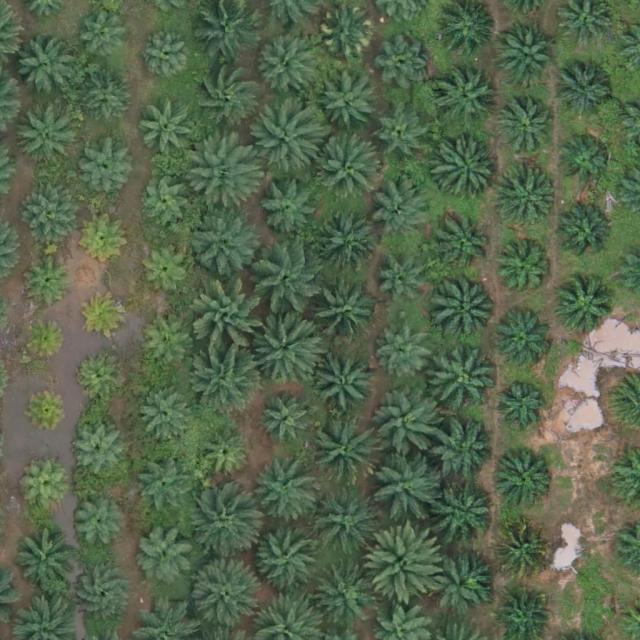Healthy: (368, 526, 446, 605), (369, 450, 440, 521), (252, 521, 323, 592), (307, 280, 378, 351), (255, 246, 326, 317), (310, 487, 381, 557), (248, 459, 318, 530), (187, 491, 257, 562), (188, 559, 258, 630), (432, 272, 502, 343), (316, 135, 386, 206), (255, 107, 325, 178), (192, 345, 263, 415), (196, 285, 266, 356), (188, 206, 258, 277), (188, 134, 258, 205), (374, 390, 444, 461), (308, 417, 378, 487), (428, 344, 498, 414), (252, 312, 322, 382), (191, 64, 261, 134), (494, 445, 557, 508), (555, 59, 618, 122), (434, 69, 497, 132), (434, 141, 497, 204), (255, 173, 318, 236), (137, 100, 200, 163), (436, 482, 498, 545), (313, 563, 375, 626), (135, 522, 197, 585), (14, 529, 76, 592), (553, 204, 615, 267), (554, 276, 616, 339), (497, 169, 559, 232), (492, 311, 555, 373), (435, 214, 498, 276), (315, 353, 377, 416), (315, 214, 378, 276), (319, 72, 381, 135), (252, 36, 315, 98), (14, 37, 77, 99), (15, 103, 77, 166), (433, 424, 495, 486), (427, 549, 489, 611), (71, 565, 133, 627), (497, 23, 559, 85), (374, 179, 436, 241), (198, 428, 253, 483), (69, 424, 124, 479), (70, 496, 125, 551), (498, 245, 553, 300), (493, 378, 548, 433), (379, 328, 434, 383), (260, 394, 315, 449), (139, 29, 194, 84), (79, 71, 134, 126), (78, 6, 133, 61), (137, 241, 192, 296), (140, 318, 195, 373), (138, 178, 193, 233), (139, 386, 194, 441), (77, 141, 132, 196), (135, 459, 189, 515), (558, 133, 612, 188), (501, 98, 555, 153), (378, 36, 432, 91), (376, 109, 430, 164), (376, 262, 430, 317), (23, 184, 77, 239)
Small: (74, 352, 121, 400), (27, 256, 74, 303)
Yellow: (494, 523, 549, 578), (320, 7, 374, 62), (25, 385, 72, 433), (83, 292, 130, 340), (22, 465, 69, 512), (22, 317, 69, 364), (83, 216, 130, 263)
